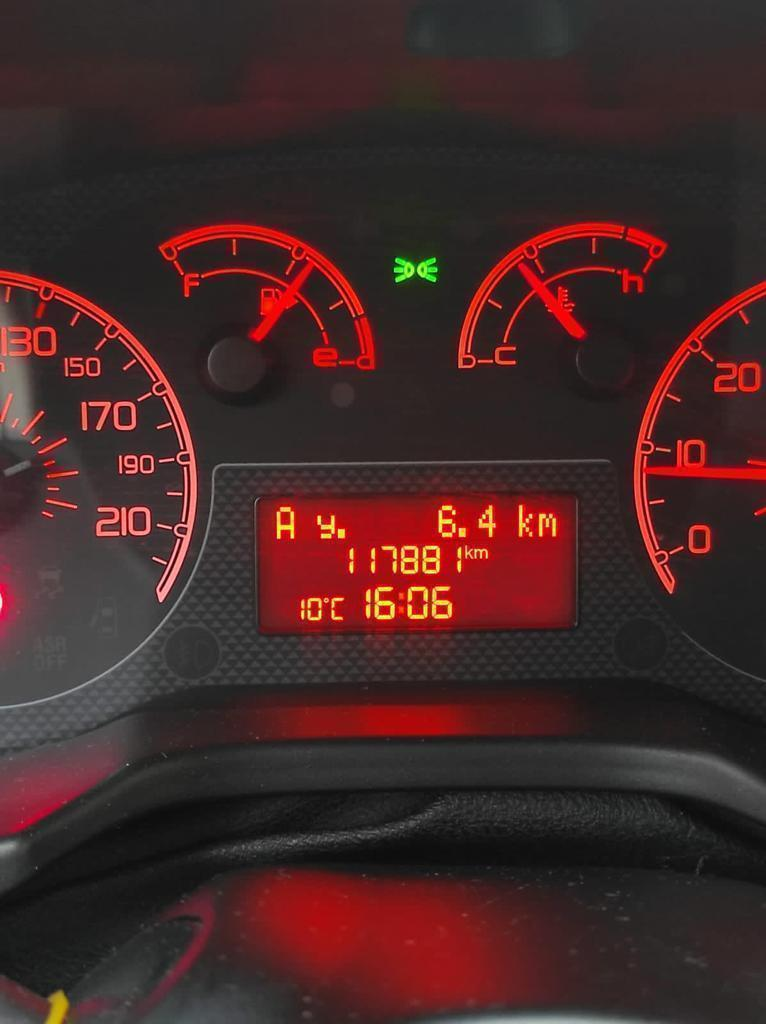,: (456, 525, 468, 539), (336, 526, 347, 539)
0: (406, 585, 429, 620), (306, 597, 322, 620)
1: (363, 586, 372, 622), (347, 545, 356, 577), (369, 545, 377, 576), (455, 545, 462, 575), (299, 597, 305, 621)
4: (475, 502, 499, 538)
6: (431, 585, 453, 621), (373, 585, 395, 621), (436, 503, 457, 539)
7: (380, 543, 398, 574)
8: (421, 544, 441, 574), (400, 545, 419, 574)
X: (275, 505, 295, 541), (517, 502, 535, 540), (537, 509, 559, 538), (315, 513, 335, 540), (330, 596, 345, 622), (473, 547, 489, 560), (397, 591, 404, 616), (464, 543, 473, 560)
odometer: (249, 480, 586, 640)
